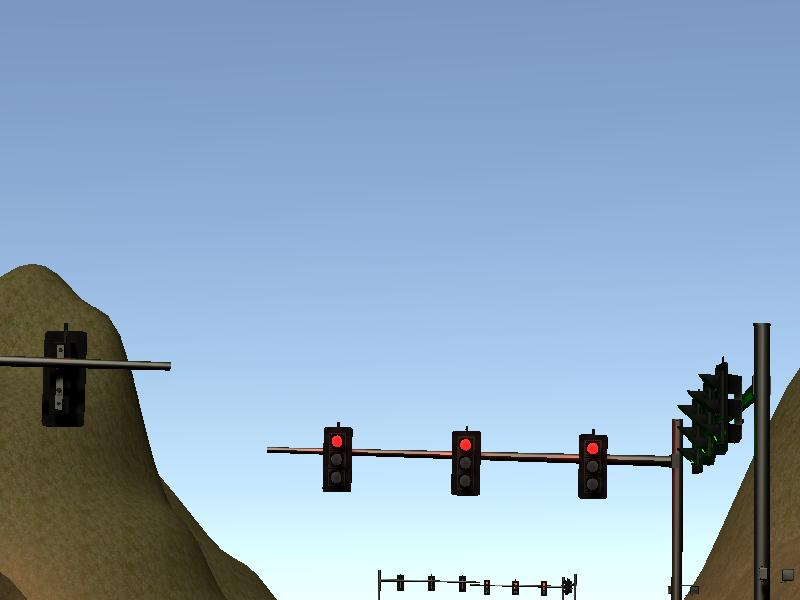Red: (450, 431, 481, 494), (324, 425, 352, 493), (579, 434, 607, 499)
